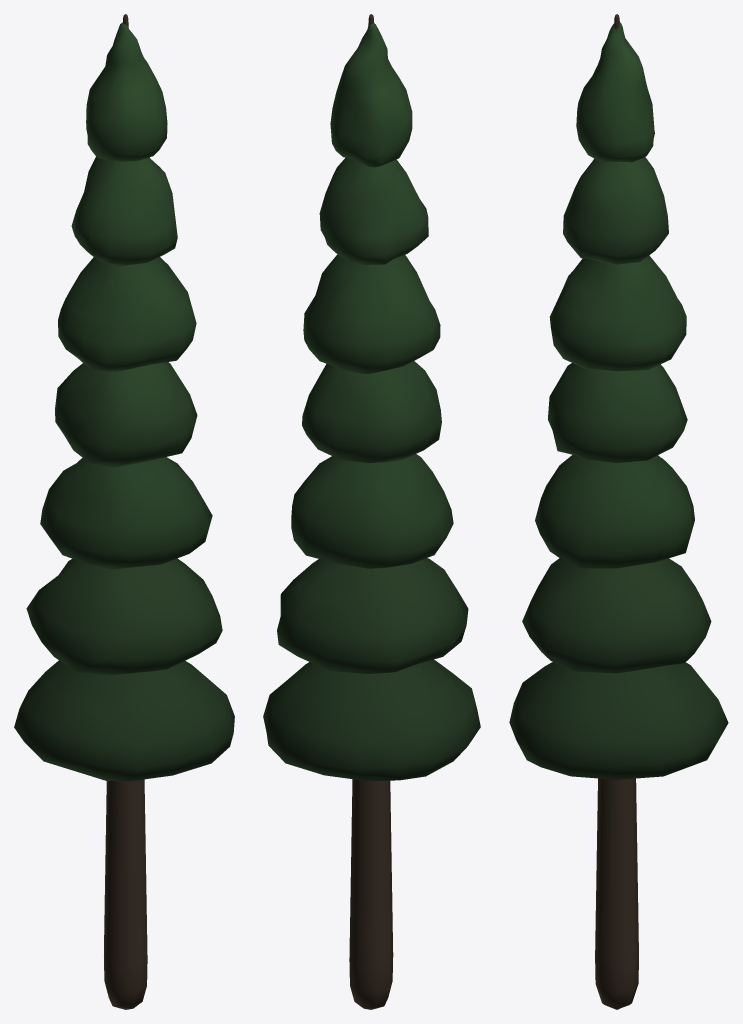
Rendered from SM_Tree_Pine_B.fbx.
The picture shows the model from 3 angles, left to right: view 1: azimuth 30°, elevation 25°; view 2: azimuth 150°, elevation 25°; view 3: azimuth 270°, elevation 25°; orthographic projection.
Visible parts, largest first — view 1: SM_Tree_Pine_B; view 2: SM_Tree_Pine_B; view 3: SM_Tree_Pine_B.
Boxes of the visible parts, box(x1,y1,x2,y2) form: SM_Tree_Pine_B: box(14, 14, 234, 1009); SM_Tree_Pine_B: box(263, 14, 480, 1009); SM_Tree_Pine_B: box(509, 14, 728, 1009).
Size of the model in its own units: 3.03 by 15.35 by 3.06.
